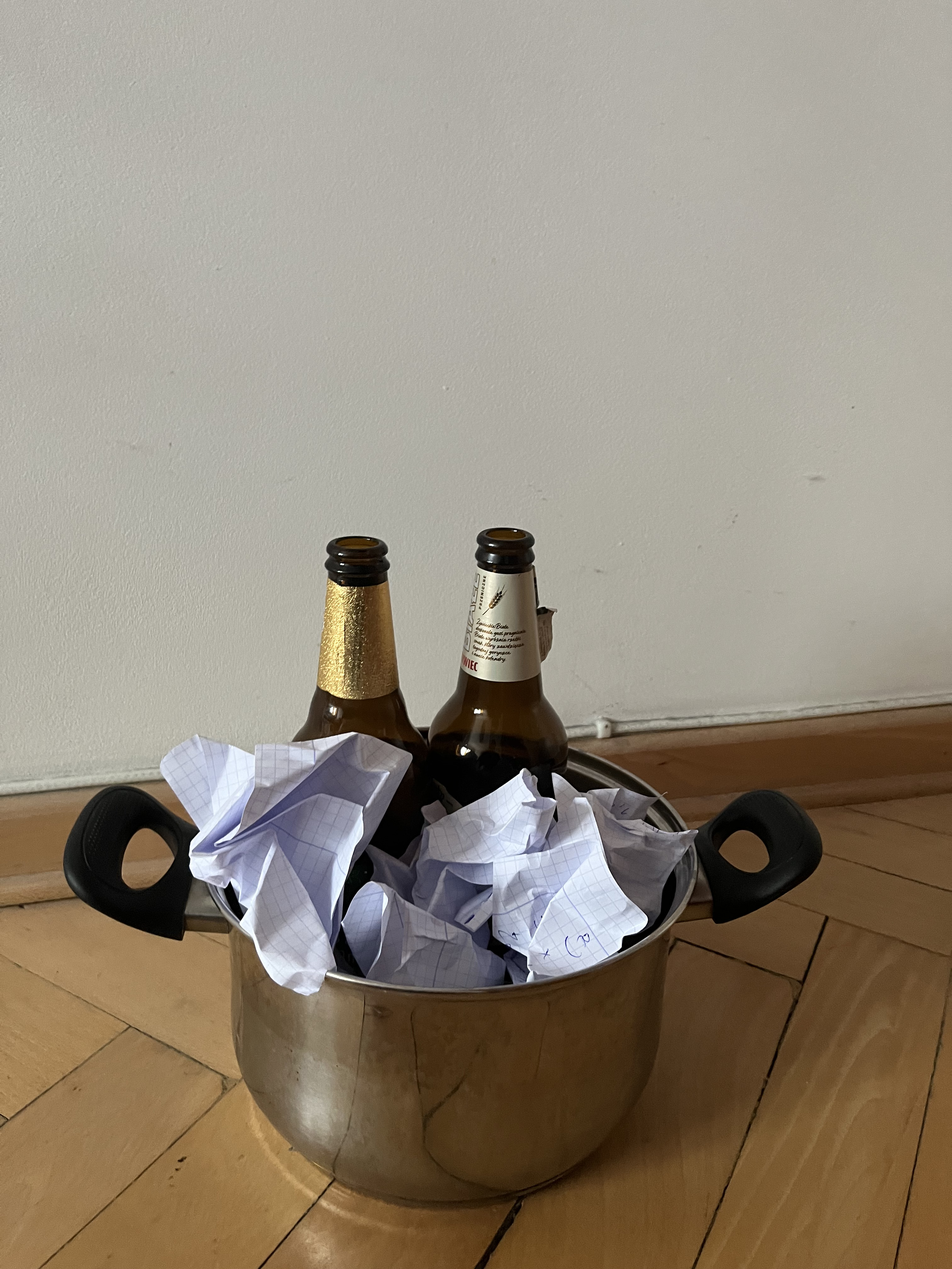GLASS: (420, 522, 601, 848), (296, 510, 455, 851)
METAL: (134, 751, 708, 1205)
PAPER: (132, 728, 729, 1008)
